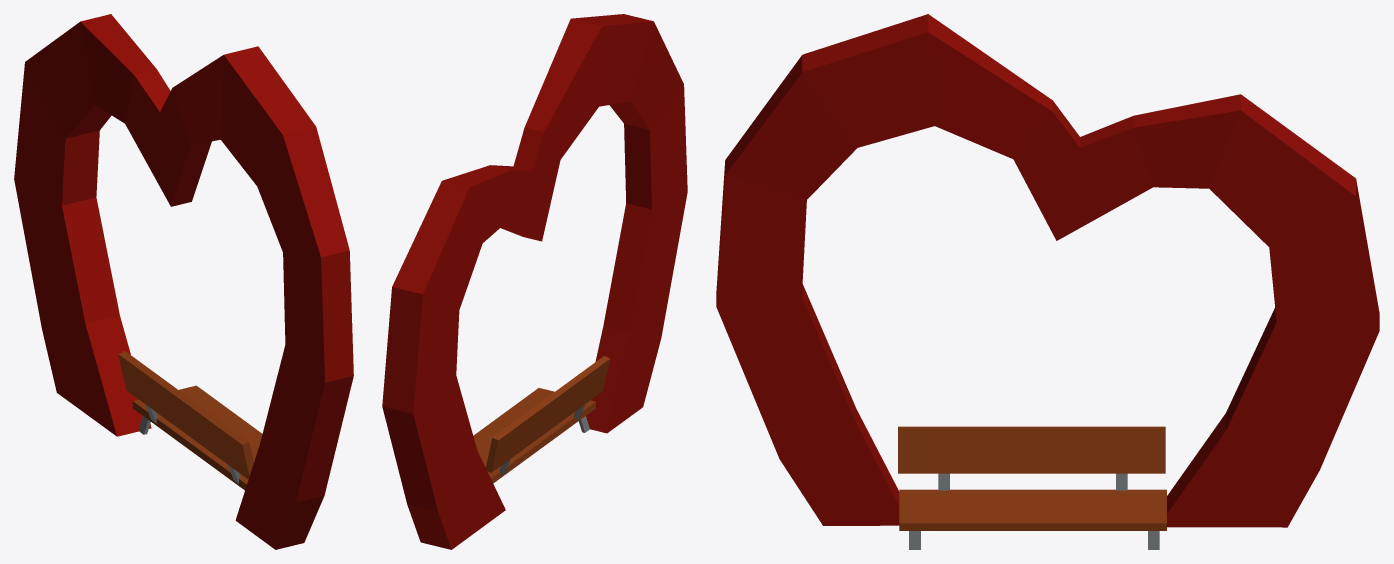
The model's file is Arco namorado.fbx.
The picture shows the model from 3 angles, left to right: view 1: azimuth 30°, elevation 25°; view 2: azimuth 150°, elevation 25°; view 3: azimuth 270°, elevation 25°; orthographic projection. The views are drawn at different scales.
Visible parts, largest first — view 1: o; view 2: o; view 3: o.
Part boxes in pixels (left/top/right/bottom): o: left=14, top=14, right=353, bottom=549; o: left=382, top=14, right=687, bottom=549; o: left=716, top=14, right=1379, bottom=549.
Size of the model in its own units: 353 by 1854 by 2250.
